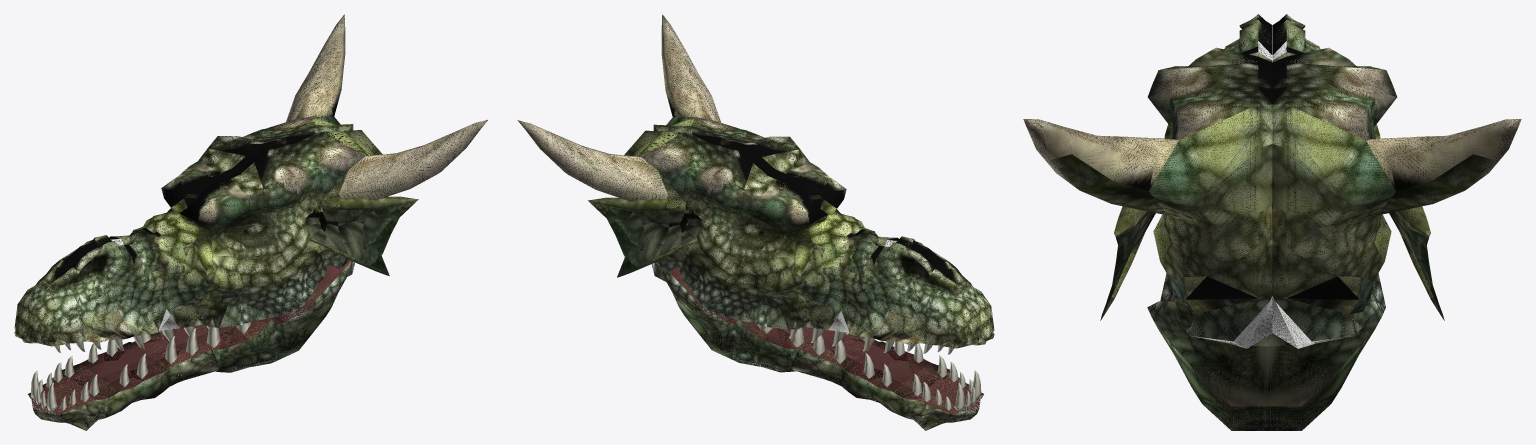
Rendered from dragon_head.dae.
3 renders of one model, left to right at view 1: azimuth 30°, elevation 25°; view 2: azimuth 150°, elevation 25°; view 3: azimuth 270°, elevation 25°, orthographic. The views are drawn at different scales.
Visible parts, largest first — view 1: group_9 (×4), group_30 (×2), group_17; view 2: group_9 (×4), group_17 (×2), group_30; view 3: group_9 (×8), group_30, group_17.
Boxes of the visible parts, x1,y1,x2,y2 form: group_9 (×4): (14,14,487,346); group_30 (×2): (33,260,352,430); group_17: (28,325,208,408); group_9 (×4): (517,14,994,348); group_17 (×2): (658,266,978,430); group_30: (802,327,983,408); group_9 (×8): (1023,14,1521,348); group_30: (1147,301,1266,430); group_17: (1266,301,1385,430).
Size of the model in its own units: 26.01 by 16.35 by 17.03.
9 materials, 3 textured.
